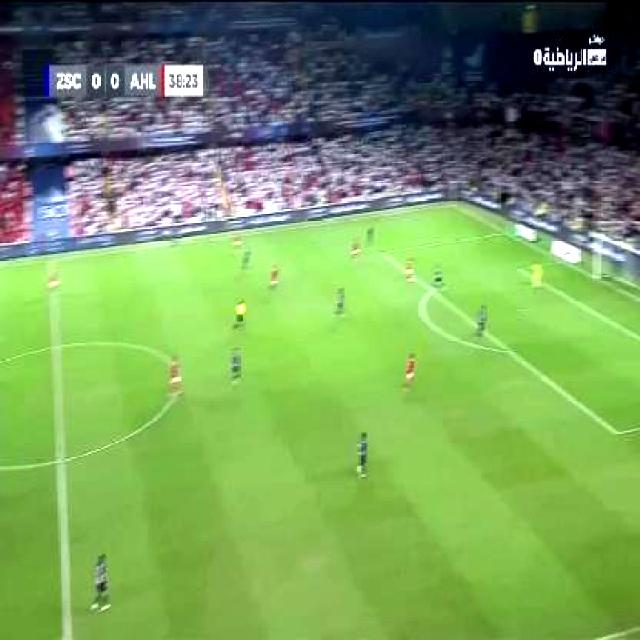bigarea_bottom_inner: (608, 418, 624, 444)
bigarea_top_inner: (377, 246, 385, 257)
bigarea_top_outter: (497, 226, 517, 242)
bottom_arc_area_intersection: (502, 343, 512, 359)
corner: (445, 202, 460, 212)
halfcircle_bottom: (51, 444, 69, 476)
halfcircle_top: (46, 329, 65, 362)
smallarea_top_inner: (514, 263, 529, 277)
smallarea_top_outter: (557, 256, 569, 270)
top_arc_area_intersection: (426, 283, 436, 297)
